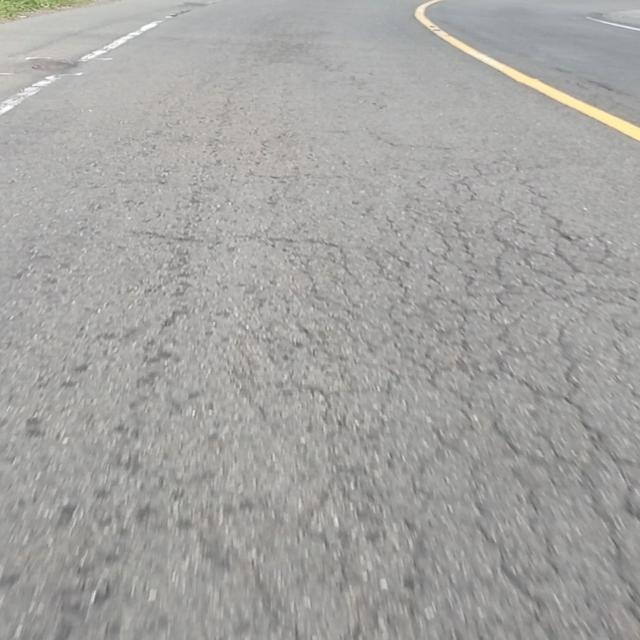Retak Buaya: (264, 152, 613, 625)
